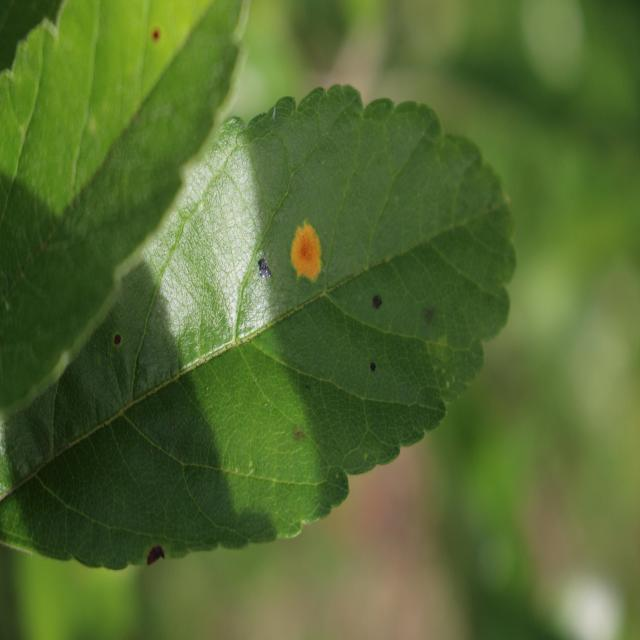Rust: (289, 210, 331, 286)
